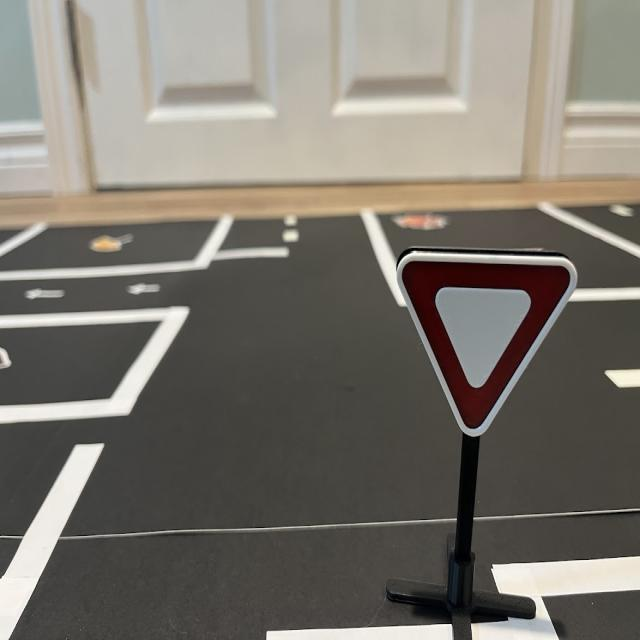road_oneway: (120, 276, 165, 301), (19, 285, 70, 303)
sign_yield: (398, 250, 579, 440)
